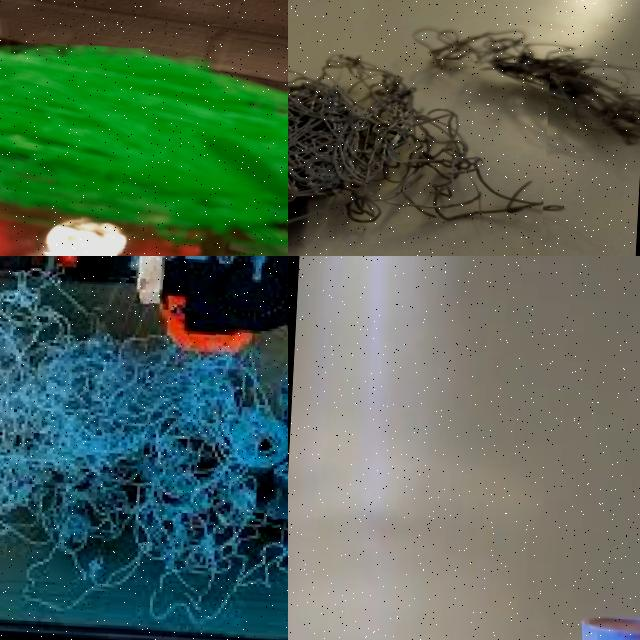spaghetti: (0, 272, 288, 595), (0, 45, 288, 256), (288, 45, 551, 256), (422, 8, 640, 142)
